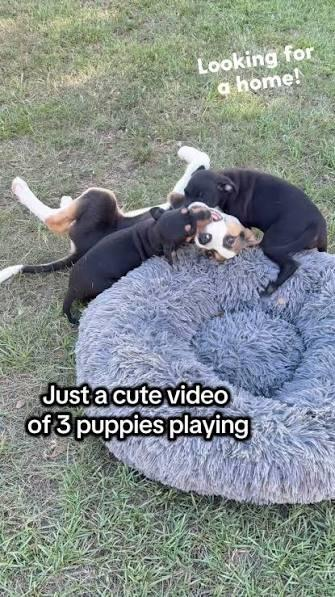puppy-dog: (0, 145, 265, 285), (167, 166, 329, 300), (62, 201, 213, 326)
